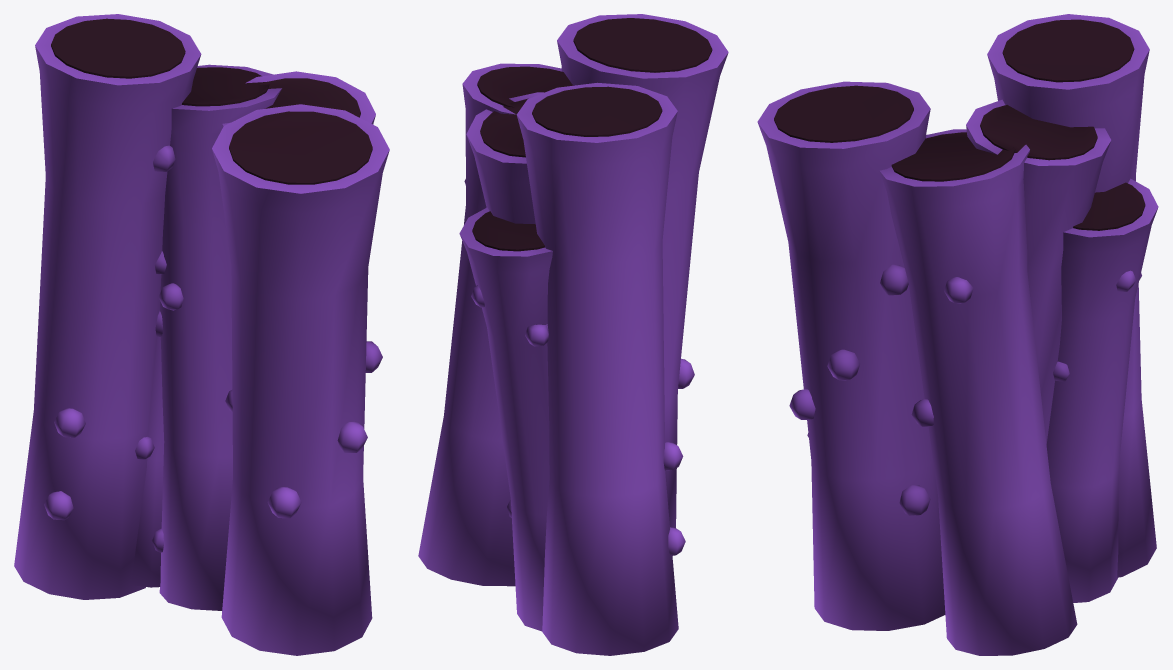
The model's file is sponge_cluster.glb.
3 renders of one model, left to right at view 1: azimuth 30°, elevation 25°; view 2: azimuth 150°, elevation 25°; view 3: azimuth 270°, elevation 25°, orthographic. The views are drawn at different scales.
Visible parts, largest first — view 1: sponge_cluster_mesh; view 2: sponge_cluster_mesh; view 3: sponge_cluster_mesh.
Part boxes in pixels (x1,y1,x2,y2): sponge_cluster_mesh: (14,14,389,655); sponge_cluster_mesh: (418,14,728,655); sponge_cluster_mesh: (757,14,1158,655).
Bounding box in the file's own units: 0.63 × 1.11 × 0.7731.
